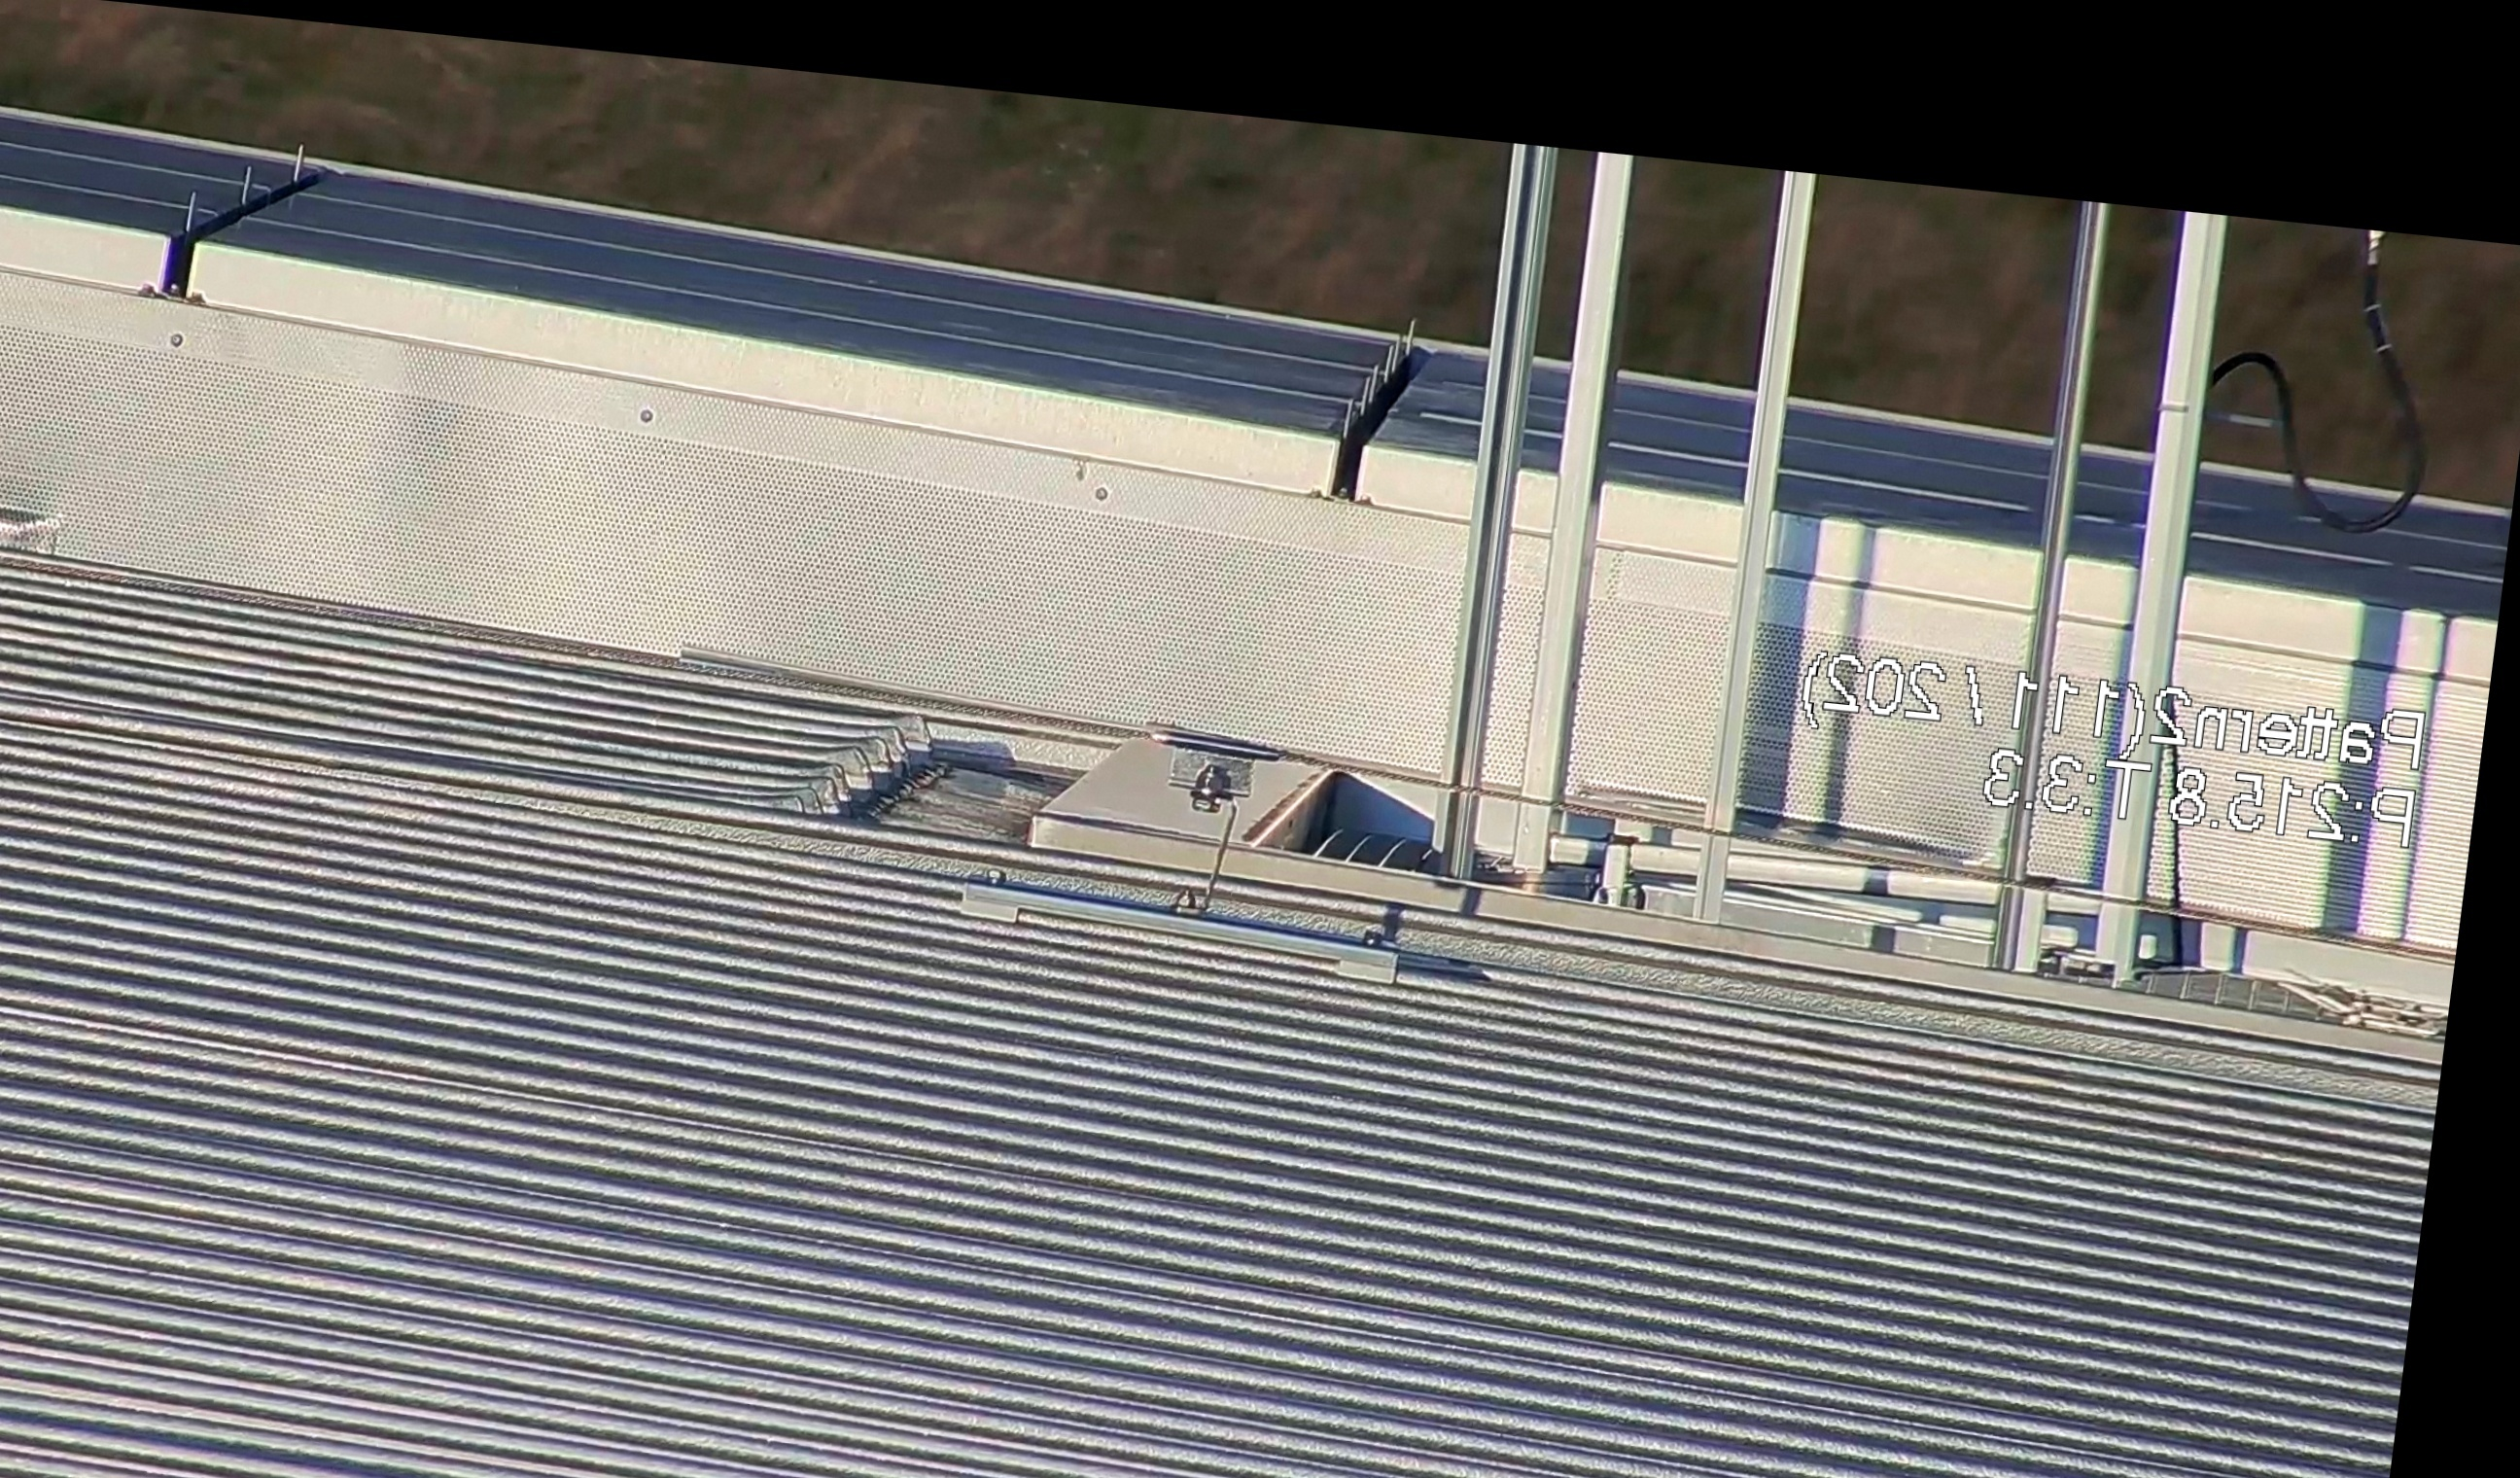Other: (1300, 310, 1467, 526)
